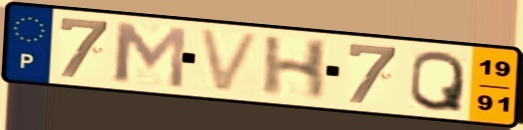7: (345, 41, 401, 105), (57, 15, 112, 80)
H: (259, 34, 333, 102)
M: (111, 19, 190, 91)
Q: (406, 48, 467, 114)
V: (195, 26, 266, 95)
